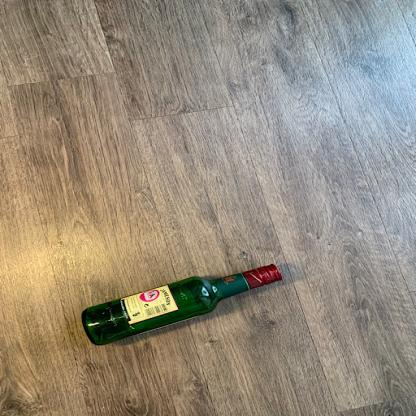trash: (80, 262, 284, 348)
